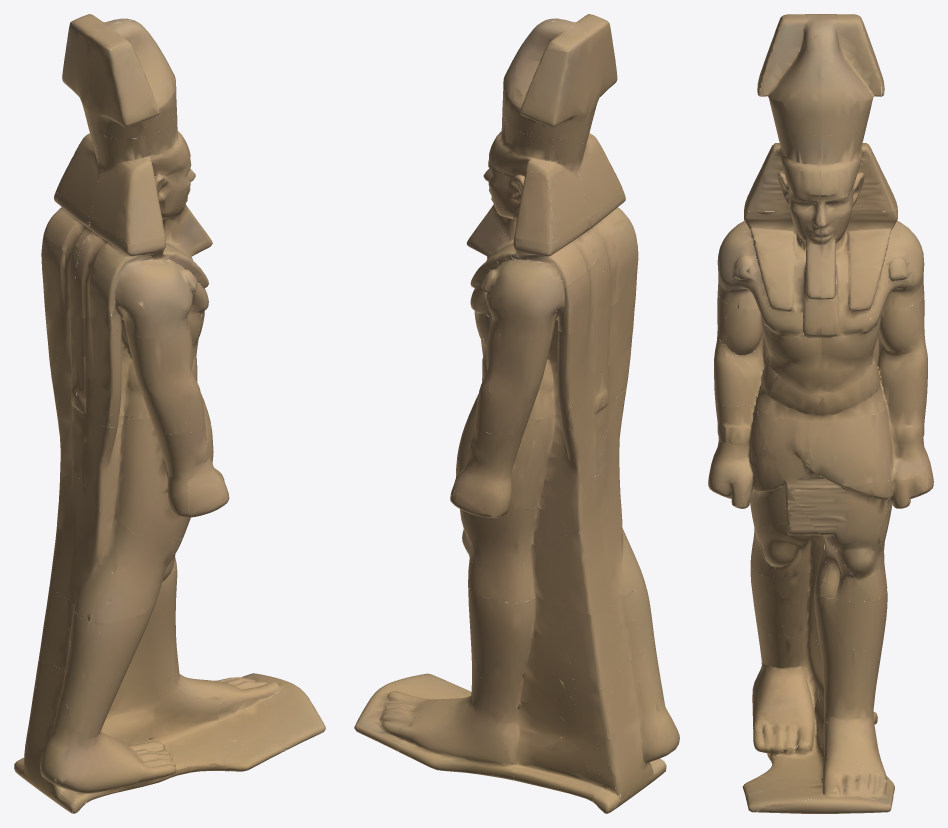
File: Ramsis_Standing.glb
3 renders of one model, left to right at view 1: azimuth 30°, elevation 25°; view 2: azimuth 150°, elevation 25°; view 3: azimuth 270°, elevation 25°, orthographic. The views are drawn at different scales.
Parts seen in each view (by area): view 1: tripo_node_f02c41a5-7c11-42ce-9bb2-fdd02148cc06; view 2: tripo_node_f02c41a5-7c11-42ce-9bb2-fdd02148cc06; view 3: tripo_node_f02c41a5-7c11-42ce-9bb2-fdd02148cc06.
Boxes of the visible parts, x1,y1,x2,y2 form: tripo_node_f02c41a5-7c11-42ce-9bb2-fdd02148cc06: (14,14,325,813); tripo_node_f02c41a5-7c11-42ce-9bb2-fdd02148cc06: (354,14,679,813); tripo_node_f02c41a5-7c11-42ce-9bb2-fdd02148cc06: (708,14,933,813).
Bounding box in the file's own units: 0.3833 × 1 × 0.2774.
1 material, 1 textured.
